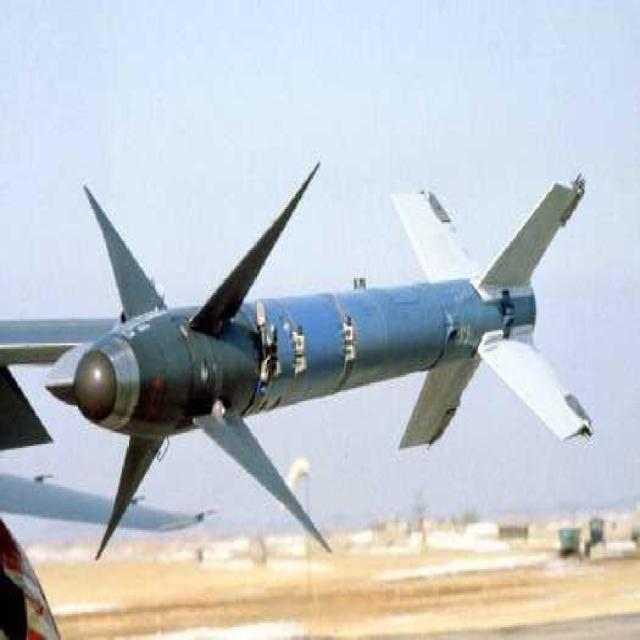missile: (41, 245, 580, 430)
